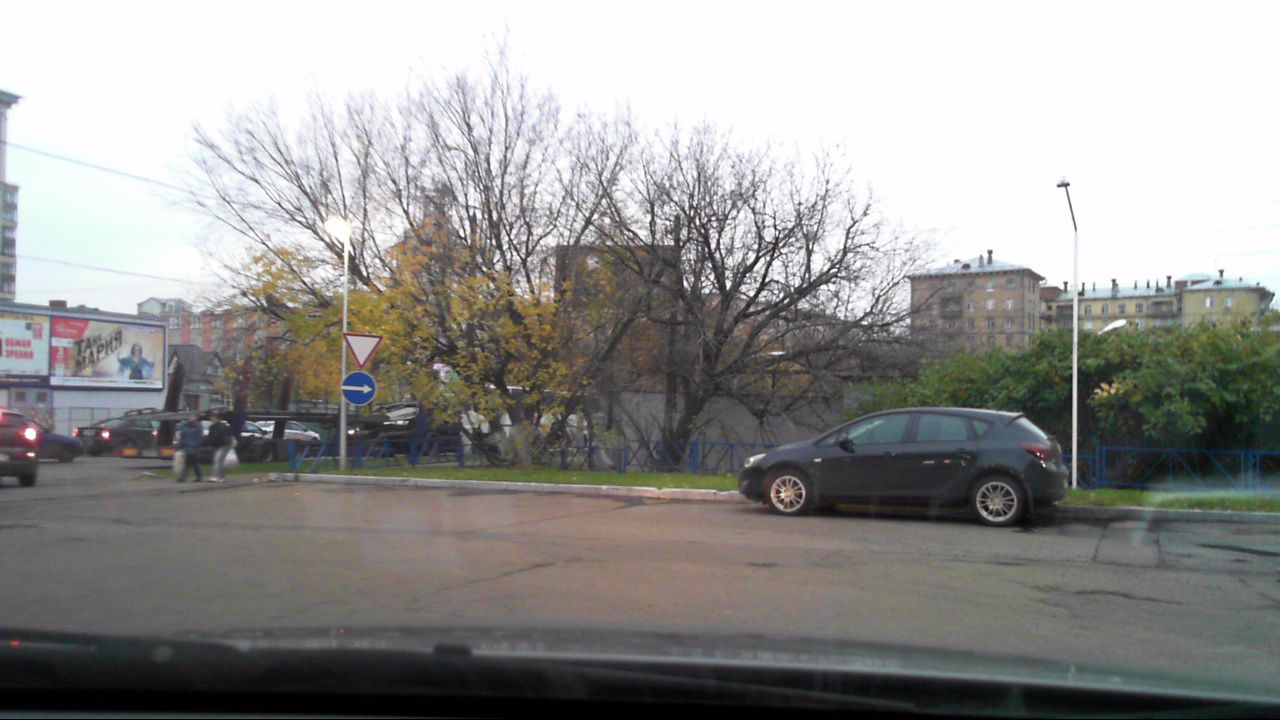Turn Right: (341, 371, 376, 406)
